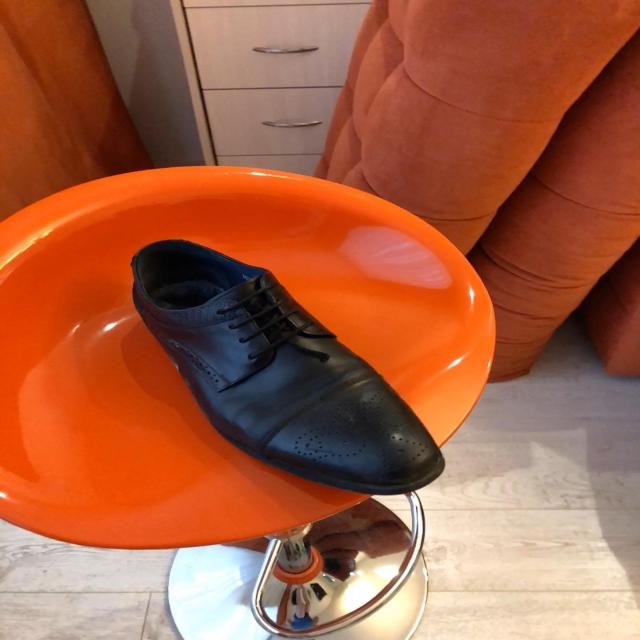shoe: (128, 238, 445, 499)
